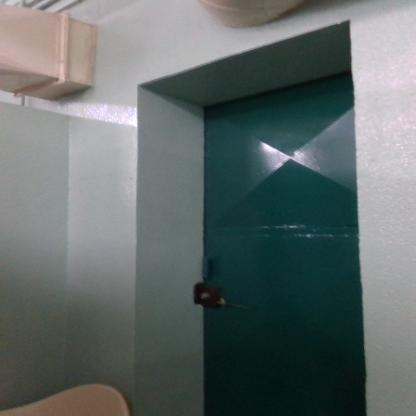closed: (167, 59, 379, 411)
